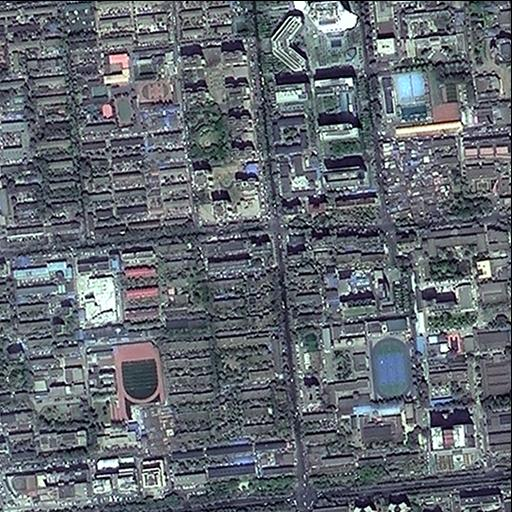school: (28, 339, 164, 456), (284, 313, 420, 412), (131, 43, 178, 106)
